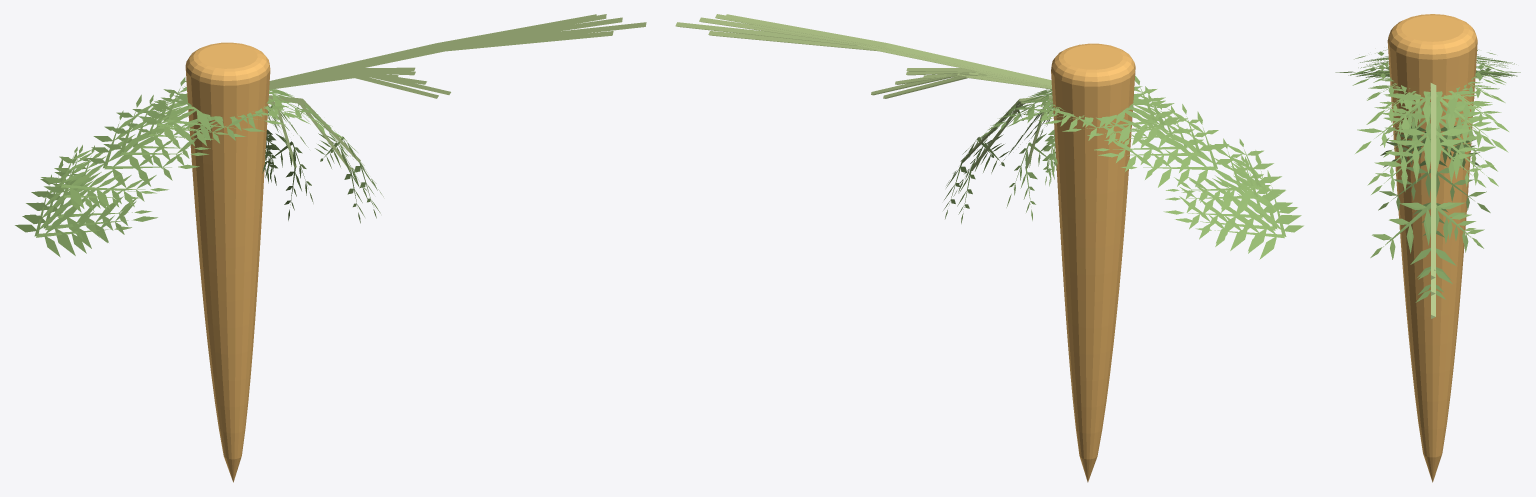
Rendered from carrot_harvest_v20.articulated.glb.
3 renders of one model, left to right at view 1: azimuth 30°, elevation 25°; view 2: azimuth 150°, elevation 25°; view 3: azimuth 270°, elevation 25°, orthographic. The views are drawn at different scales.
Parts seen in each view (by area): view 1: root, leaf02_link2, leaf05_link2, leaf03_link2, leaf01_link2, leaf02_link0, leaf00_link2, leaf04_link2, leaf03_link0, leaf05_link0, leaf00_link0, leaf02_link1; view 2: root, leaf02_link2, leaf05_link2, leaf03_link2, leaf01_link2, leaf01_link0, leaf00_link2, leaf04_link2, leaf02_link0, leaf05_link0, leaf03_link0; view 3: root, leaf05_link2, leaf02_link2, leaf03_link2, leaf01_link2, leaf01_link0, leaf04_link2, leaf00_link2.
Boxes of the visible parts, x1,y1,x2,y2 form: root: (185,42,270,482); leaf02_link2: (15,77,373,257); leaf05_link2: (22,81,383,255); leaf03_link2: (43,86,313,239); leaf01_link2: (41,93,298,208); leaf02_link0: (269,22,646,87); leaf00_link2: (44,93,299,212); leaf04_link2: (65,103,293,208); leaf03_link0: (270,17,622,81); leaf05_link0: (269,31,613,87); leaf00_link0: (270,14,606,81); leaf02_link1: (269,71,450,94); root: (1051,43,1135,482); leaf02_link2: (953,75,1303,259); leaf05_link2: (943,86,1301,253); leaf03_link2: (1000,99,1284,233); leaf01_link2: (1018,86,1281,207); leaf01_link0: (725,14,1051,85); leaf00_link2: (1029,94,1271,218); leaf04_link2: (1034,107,1259,209); leaf02_link0: (675,22,1051,86); leaf05_link0: (708,31,1051,86); leaf03_link0: (699,17,1051,85); root: (1387,14,1477,482); leaf05_link2: (1335,56,1520,302); leaf02_link2: (1350,57,1509,294); leaf03_link2: (1354,60,1513,237); leaf01_link2: (1354,49,1495,155); leaf01_link0: (1430,83,1436,270); leaf04_link2: (1360,61,1495,169); leaf00_link2: (1367,57,1506,162).
Bounding box in the file's own units: 0.2916 × 0.1953 × 0.0737.
Materials: 1 (1 with a texture image).
